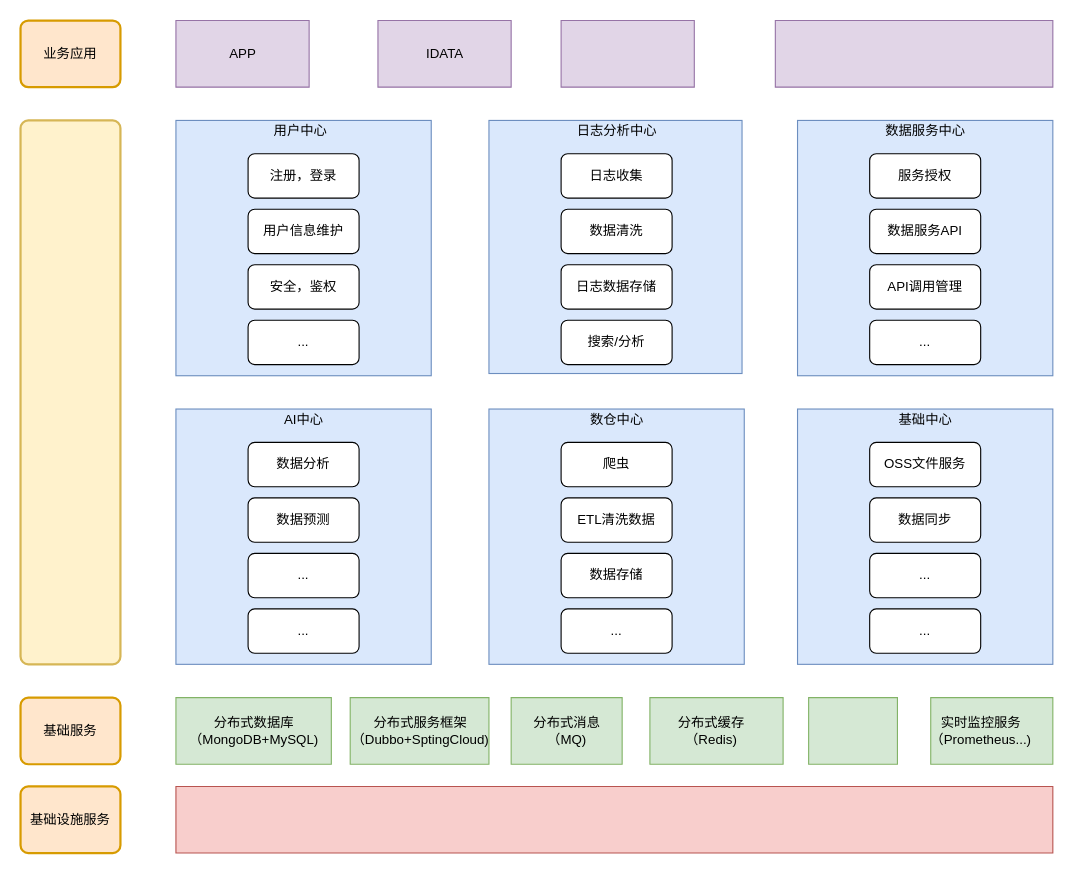
Some shapes in this 1072 by 872 pixel diagram are drawn without their labels. Each missing label, with the centre of its shape:
IAAS(Docker,k8s): (x=614, y=819)
业务中台: (x=70, y=392)
分布式事务 （Seata): (x=852, y=730)
能力开放（API,SDK): (x=913, y=53)
